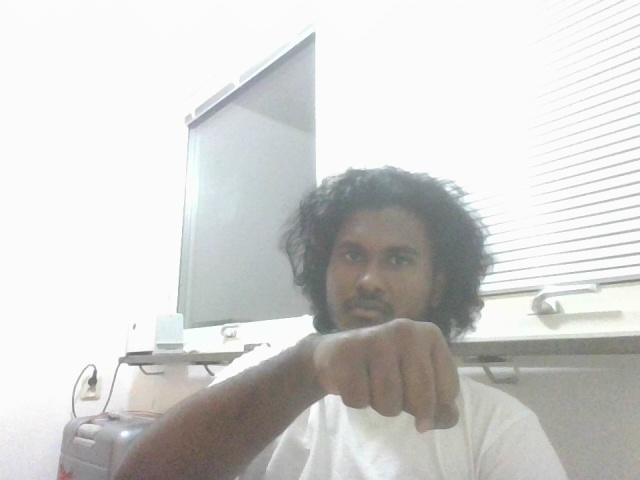Yes: (320, 310, 480, 441)
